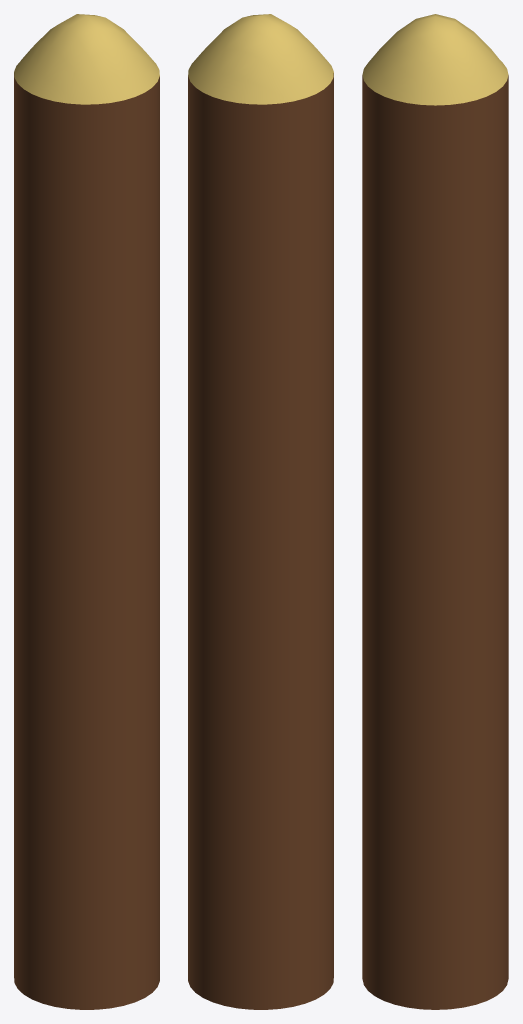
Rendered from DebugStick2.fbx.
The picture shows the model from 3 angles, left to right: view 1: azimuth 30°, elevation 25°; view 2: azimuth 150°, elevation 25°; view 3: azimuth 270°, elevation 25°; orthographic projection.
Parts seen in each view (by area): view 1: Cylinder; view 2: Cylinder; view 3: Cylinder.
Boxes of the visible parts, x1=… form: Cylinder: x1=14, y1=14, x2=159, y2=1009; Cylinder: x1=188, y1=14, x2=333, y2=1009; Cylinder: x1=362, y1=14, x2=508, y2=1009.
Size of the model in its own units: 22.45 by 163 by 22.45.
